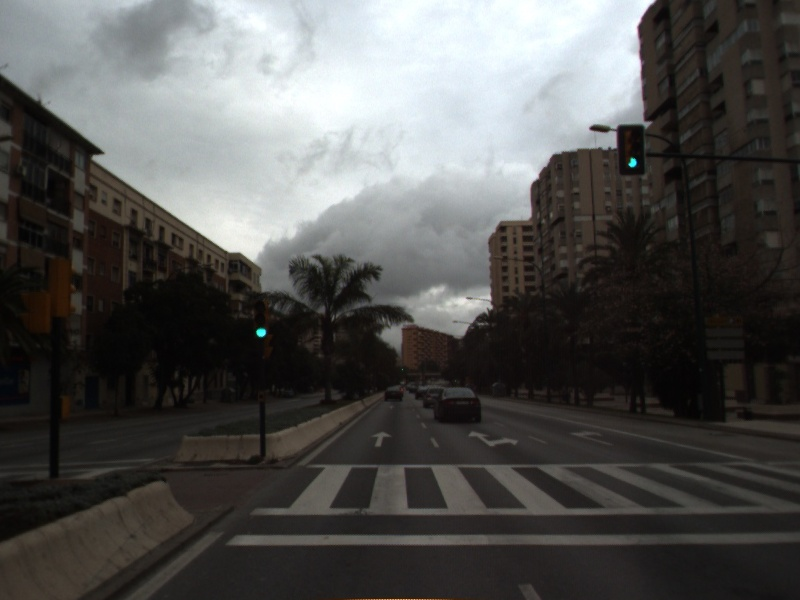RIGHT: (566, 427, 617, 448)
STRAIGHT: (368, 429, 395, 449)
STRAIGHT_RIGHT: (466, 428, 521, 449)
